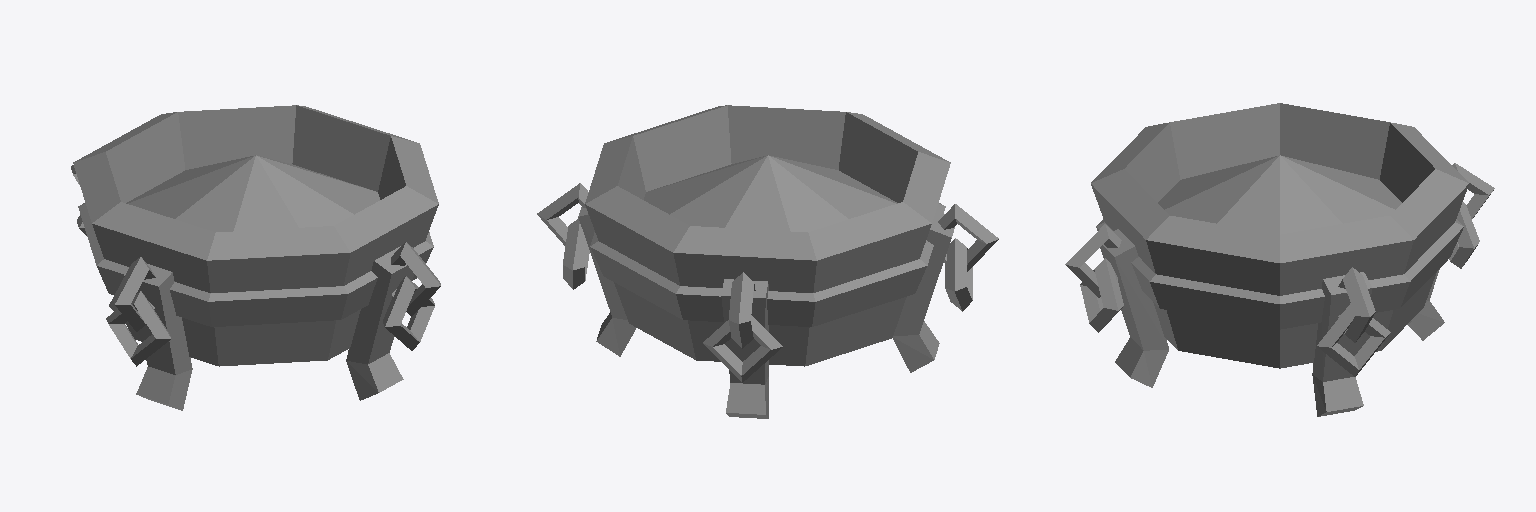
The model's file is firepit_001.obj.
3 renders of one model, left to right at view 1: azimuth 30°, elevation 25°; view 2: azimuth 150°, elevation 25°; view 3: azimuth 270°, elevation 25°, orthographic.
Parts seen in each view (by area): view 1: firepit_001; view 2: firepit_001; view 3: firepit_001.
Part boxes in pixels (left/top/right/bottom): firepit_001: left=71, top=105, right=440, bottom=410; firepit_001: left=537, top=105, right=998, bottom=418; firepit_001: left=1065, top=103, right=1494, bottom=416.
Bounding box in the file's own units: 3.21 × 1.66 × 3.21.